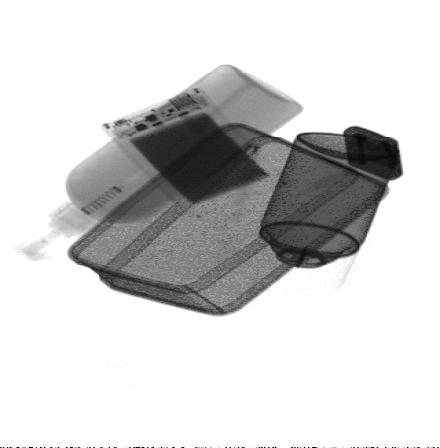Lighter: (344, 125, 404, 181)
Powerbank: (103, 86, 297, 223)
Sprayer: (253, 131, 398, 293)
